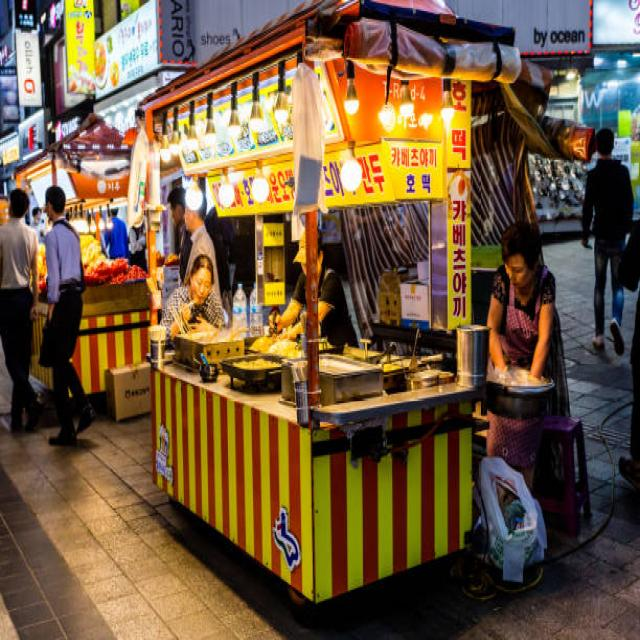Emperan: (121, 0, 554, 640), (3, 114, 176, 409)
